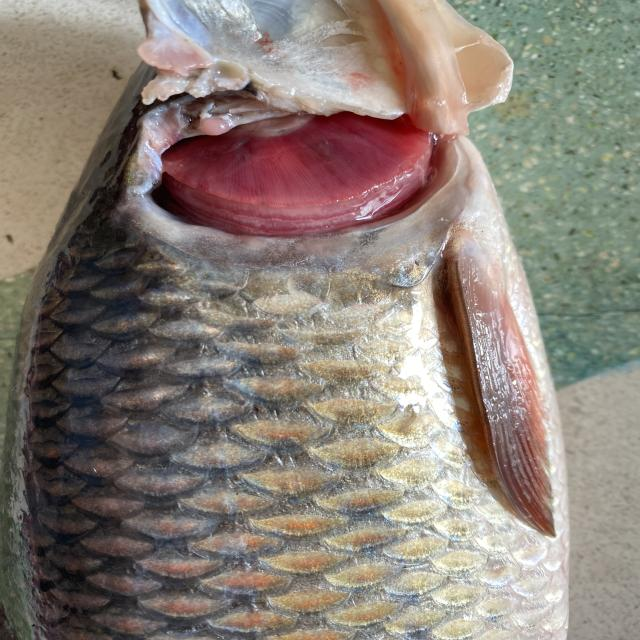Fresh: (16, 264, 494, 640), (140, 86, 486, 245)
